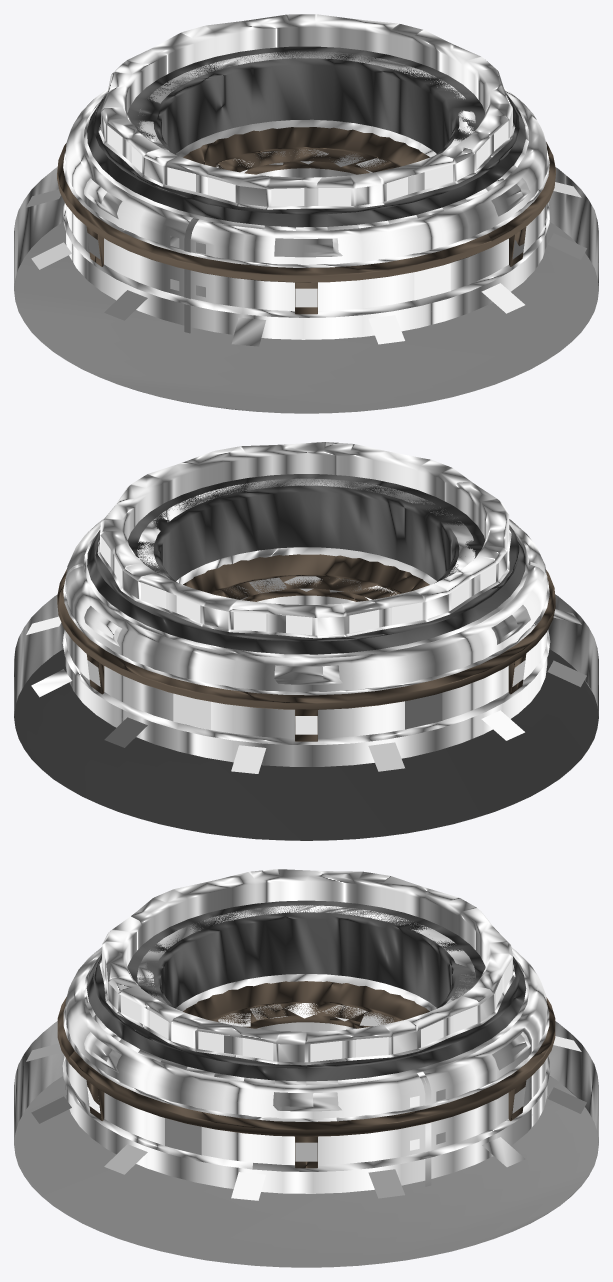
The model's file is Cable_coil_bracket_thick.glb.
The picture shows the model from 3 angles, top to bottom: view 1: azimuth 30°, elevation 25°; view 2: azimuth 150°, elevation 25°; view 3: azimuth 270°, elevation 25°; orthographic projection.
Bounding box in the file's own units: 3.18 × 1.14 × 3.18.
